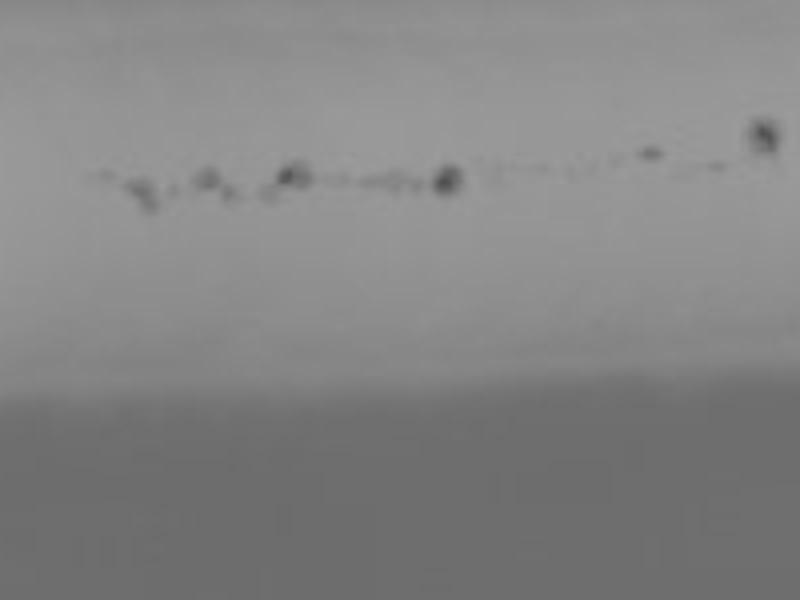defect: (743, 111, 782, 156), (358, 168, 405, 199), (122, 176, 159, 214), (433, 163, 465, 194), (278, 162, 312, 188), (191, 165, 222, 192), (91, 162, 116, 183), (257, 186, 282, 206), (217, 187, 244, 204), (410, 173, 425, 202), (639, 144, 665, 159), (161, 183, 184, 197), (709, 161, 732, 173)
